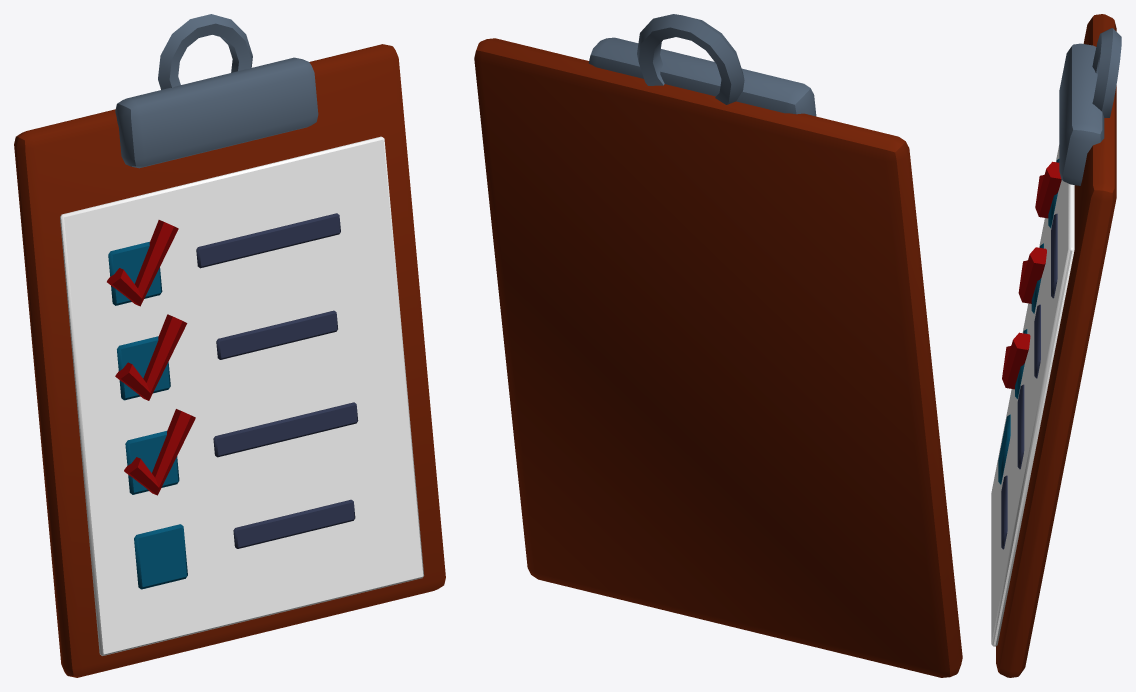
The model's file is Clipboard.obj.
The picture shows the model from 3 angles, left to right: view 1: azimuth 30°, elevation 25°; view 2: azimuth 150°, elevation 25°; view 3: azimuth 270°, elevation 25°; orthographic projection. The views are drawn at different scales.
Visible parts, largest first — view 1: Clipboard; view 2: Clipboard; view 3: Clipboard.
Boxes of the visible parts, x1,y1,x2,y2 form: Clipboard: (14,14,445,677); Clipboard: (474,14,962,677); Clipboard: (991,14,1121,677).
Bounding box in the file's own units: 2 × 2.9 × 0.6118.
